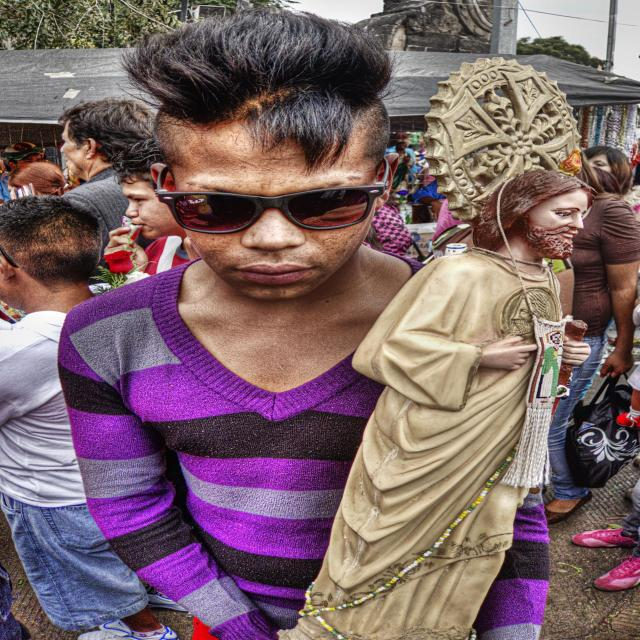body: (48, 9, 554, 640), (270, 132, 596, 640), (0, 195, 186, 639), (458, 147, 640, 524), (50, 95, 162, 279), (101, 136, 190, 276), (596, 295, 640, 427), (596, 461, 640, 592), (0, 141, 66, 203), (595, 142, 639, 220), (388, 140, 415, 203)
